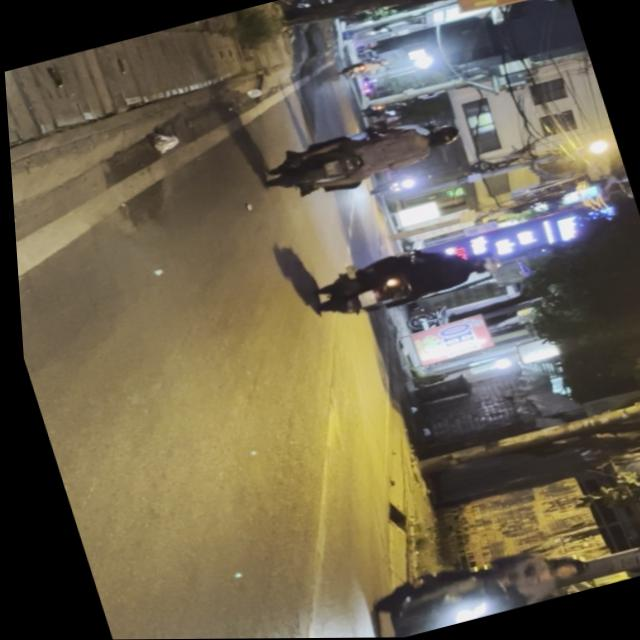helmet: (531, 551, 584, 586), (424, 124, 461, 149), (466, 252, 501, 276)
licenseplate: (342, 527, 594, 638), (254, 105, 471, 209), (299, 228, 508, 329)
nohelmet: (354, 290, 374, 307), (322, 160, 342, 177)
